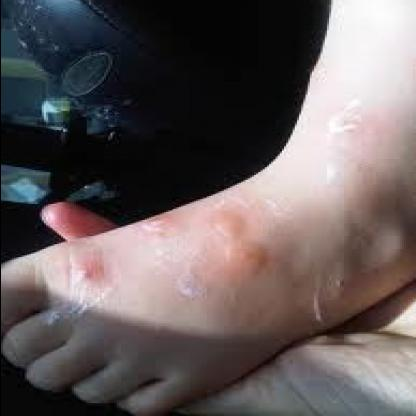Bed Bug: (223, 246, 268, 282), (202, 210, 244, 242), (69, 257, 105, 292), (140, 216, 182, 244)
